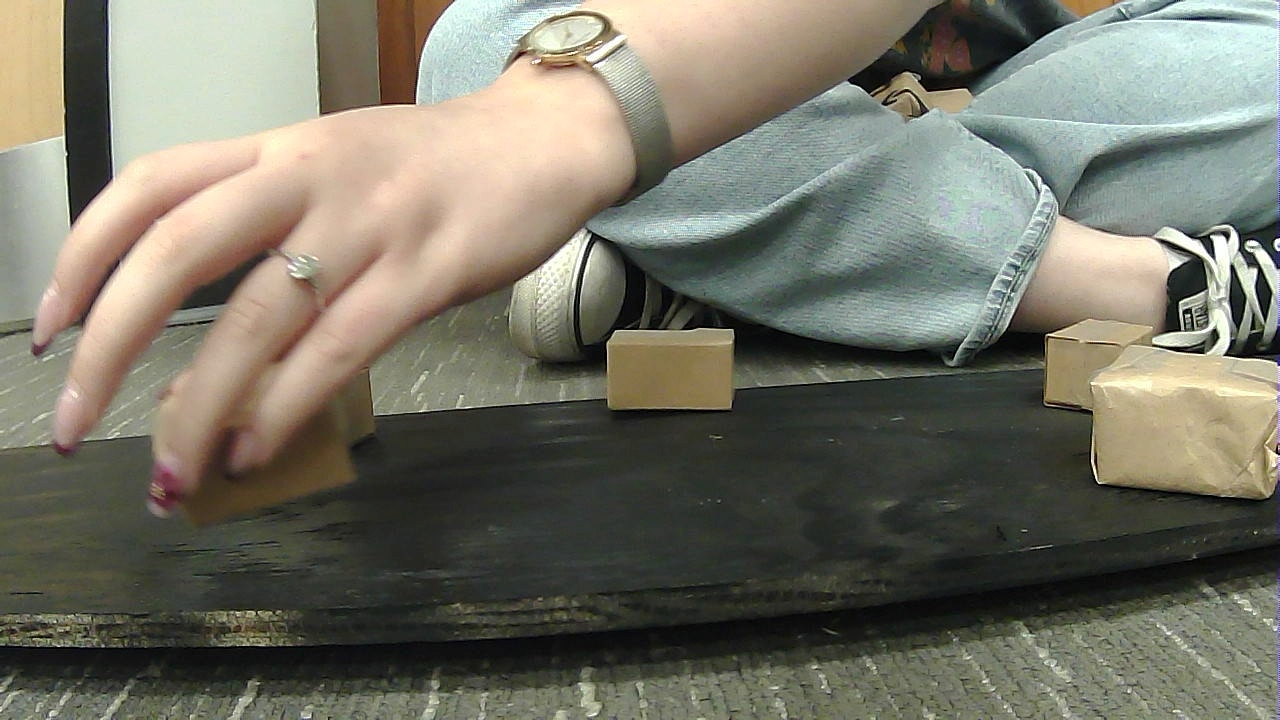package: (1091, 343, 1270, 510), (574, 308, 767, 427), (1022, 301, 1182, 422)
